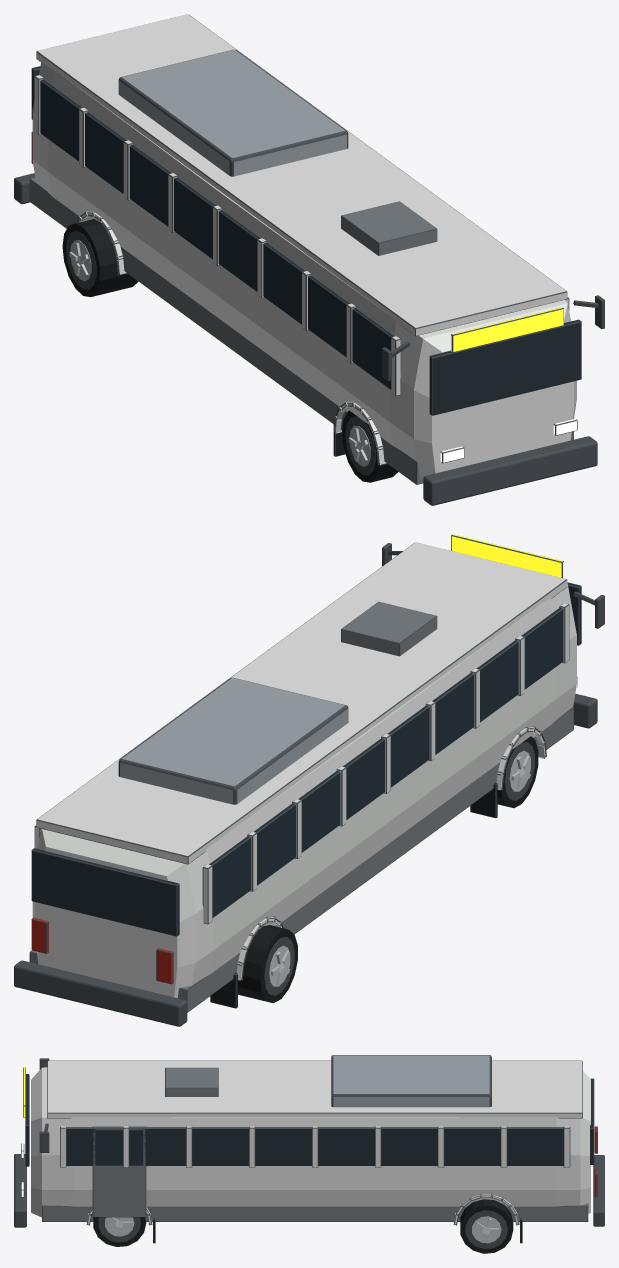
File: veh_crew_bus.glb
The picture shows the model from 3 angles, top to bottom: view 1: azimuth 30°, elevation 25°; view 2: azimuth 150°, elevation 25°; view 3: azimuth 270°, elevation 25°; orthographic projection. The views are drawn at different scales.
Parts seen in each view (by area): view 1: veh_crew_bus; view 2: veh_crew_bus; view 3: veh_crew_bus.
Boxes of the visible parts, <box> form: veh_crew_bus: <box>14,14,604,505</box>; veh_crew_bus: <box>14,534,604,1026</box>; veh_crew_bus: <box>14,1055,604,1253</box>.
Size of the model in its own units: 3.3 by 2.99 by 11.03.
